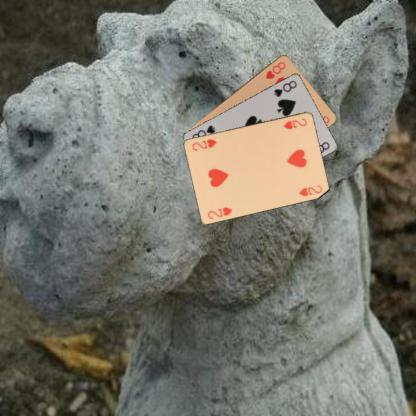2h: (205, 205, 234, 220), (281, 116, 308, 130)
8h: (263, 59, 287, 80)
8s: (272, 78, 298, 98)
